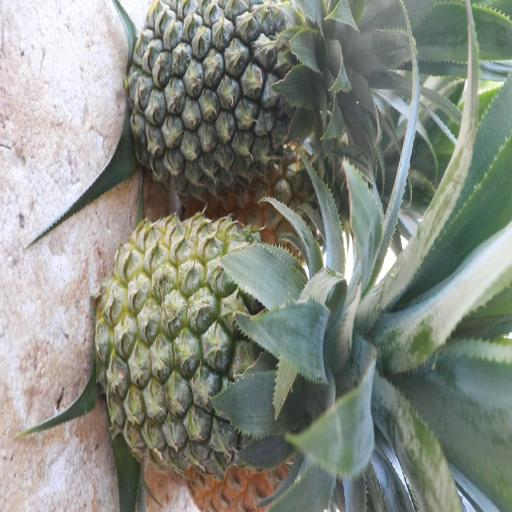------------------------------: (96, 217, 338, 460)
